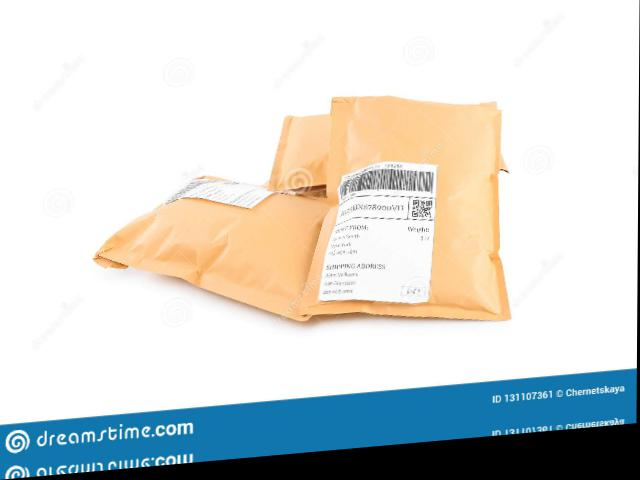label: (319, 166, 449, 306)
package: (82, 83, 561, 356)
